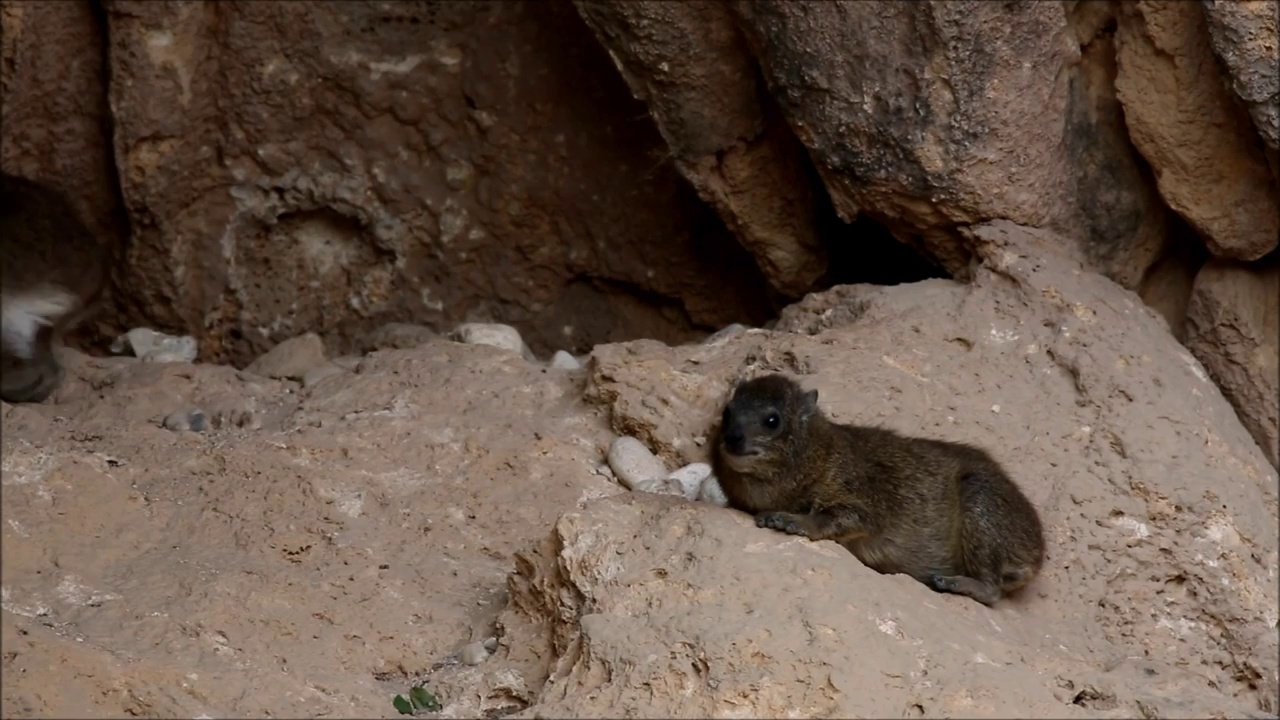Rock Hyrex: (708, 370, 1047, 605), (1, 179, 110, 404)
